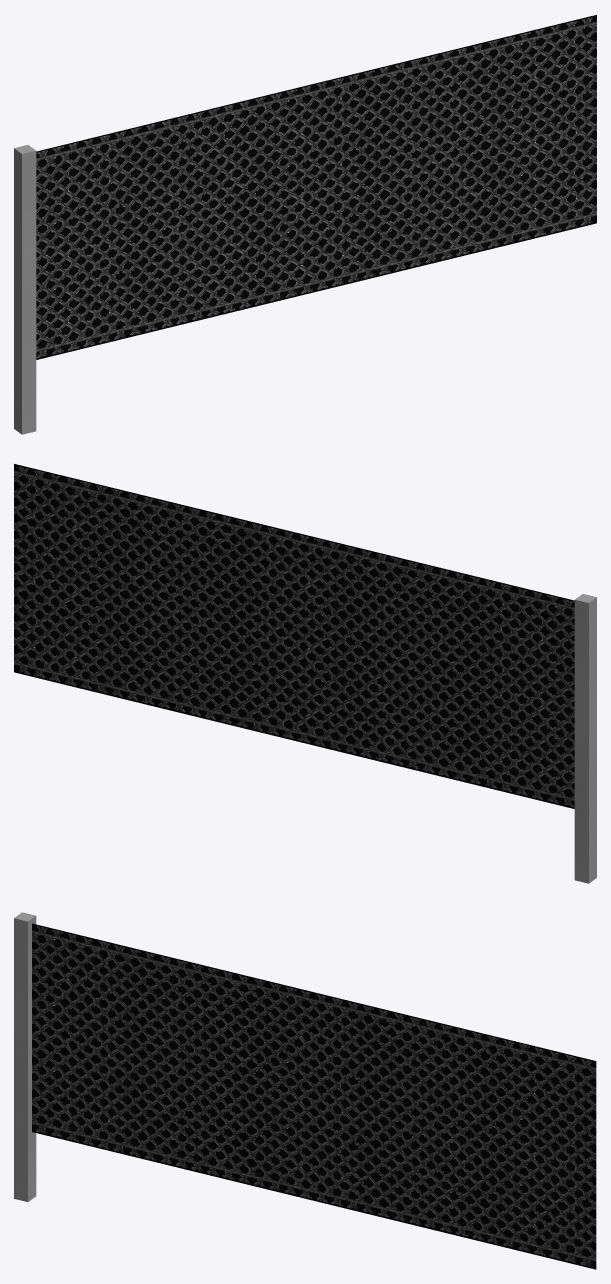
File: fence-chainlink-2wire-1s-cbj_LOD00.gltf
The picture shows the model from 3 angles, top to bottom: view 1: azimuth 30°, elevation 25°; view 2: azimuth 150°, elevation 25°; view 3: azimuth 330°, elevation 25°; orthographic projection.
Parts seen in each view (by area): view 1: post; view 2: post; view 3: post.
Boxes of the visible parts, x1,y1,x2,y2 form: post: [14, 15, 596, 434]; post: [14, 464, 596, 883]; post: [14, 912, 596, 1269].
Bounding box in the file's own units: 2.87 × 1.33 × 0.07.
